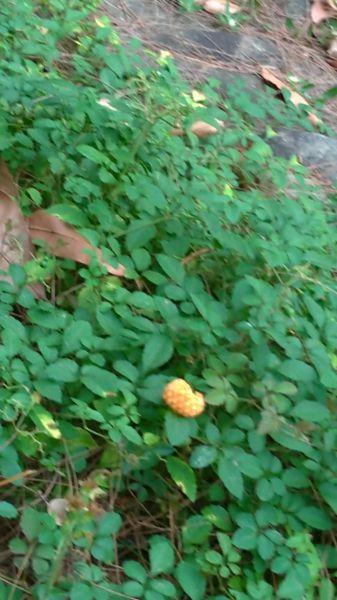eggs: (159, 370, 209, 424)
